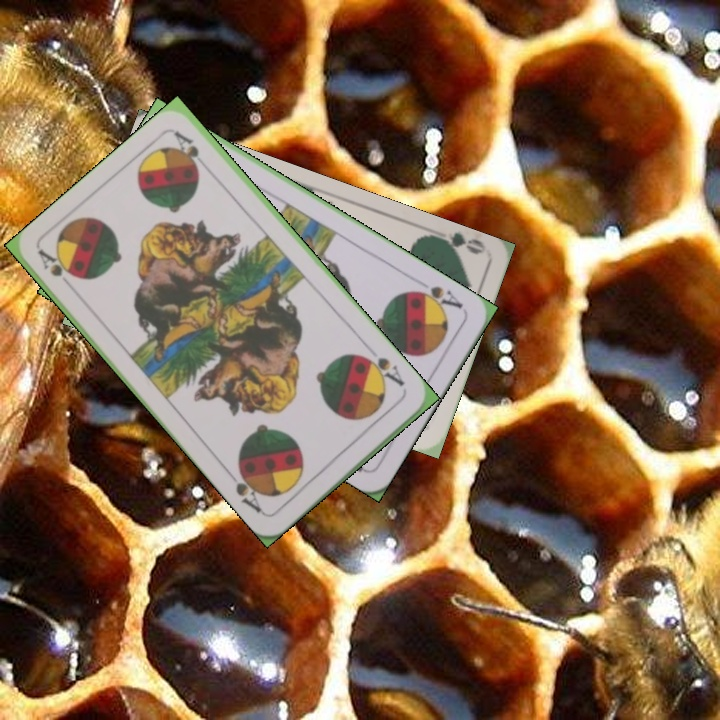GO: (428, 228, 487, 260)
SA: (35, 246, 79, 296), (408, 281, 466, 314), (358, 352, 408, 390)
